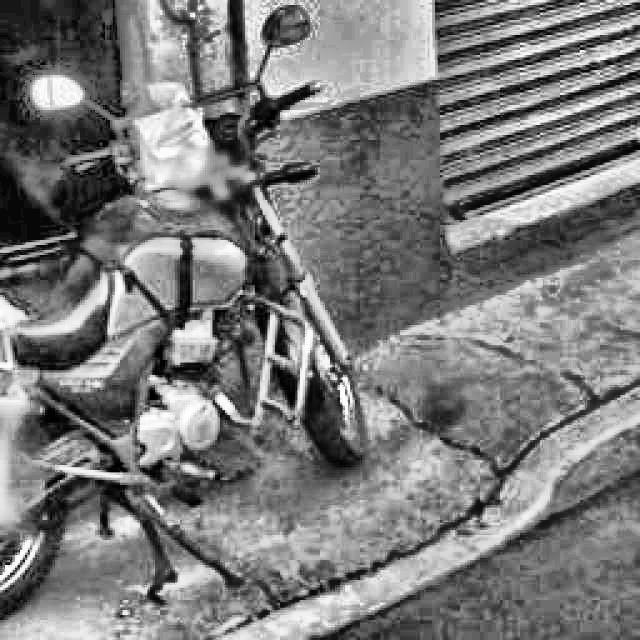motorcycle: (0, 5, 377, 636)
